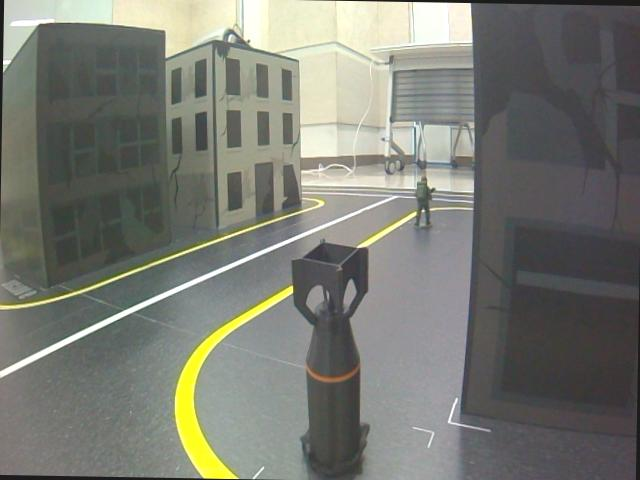Enemy: (411, 174, 436, 230)
Missile: (284, 233, 376, 476)
